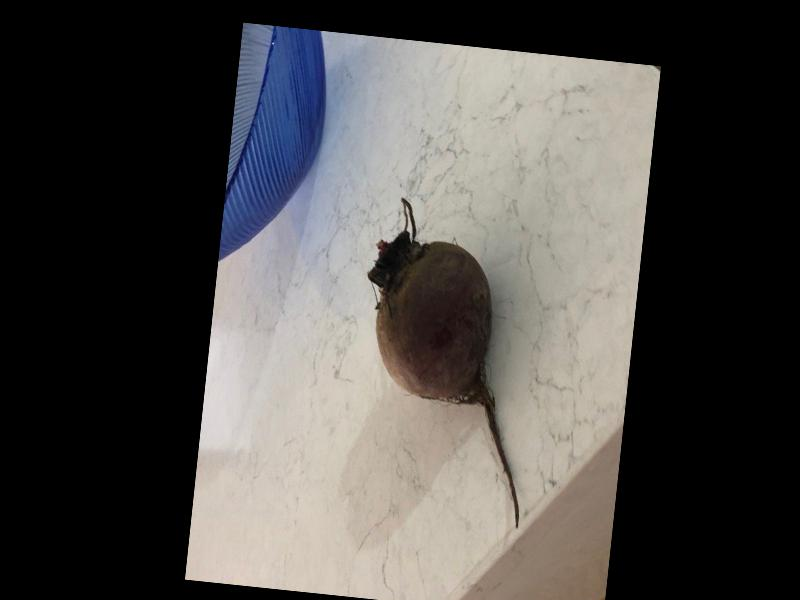Beet: (344, 197, 552, 527)
